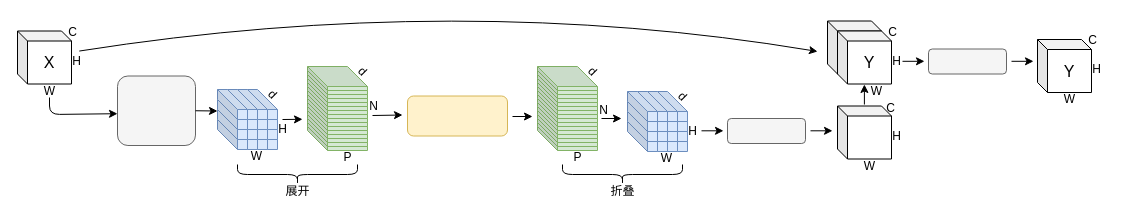
Some shapes in this 1129 by 224 pixel diagram are drawn without their labels. Each missing label, with the centre of its shape:
"Conv-1 ×1" belongs at (967,61).
"Conv-n ×n" belongs at (766,131).
"Conv-n ×n | Conv-1 ×1" belongs at (156,110).
"Transformer" belongs at (457,115).
